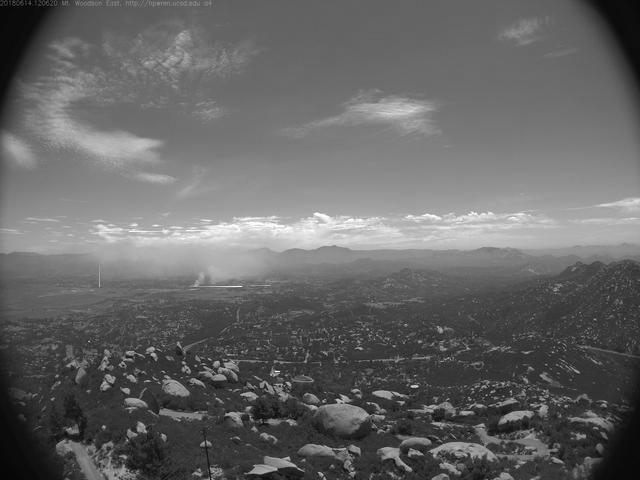smoke: (100, 232, 272, 289)
